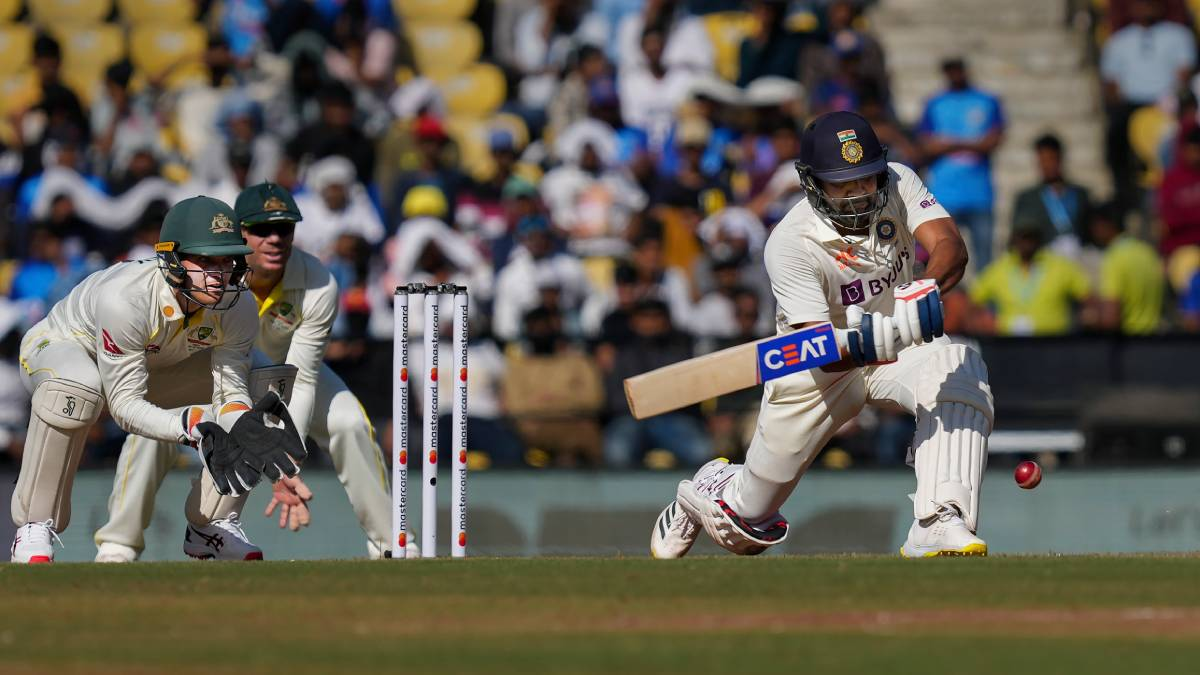Sweepshot: (570, 69, 1103, 575)
